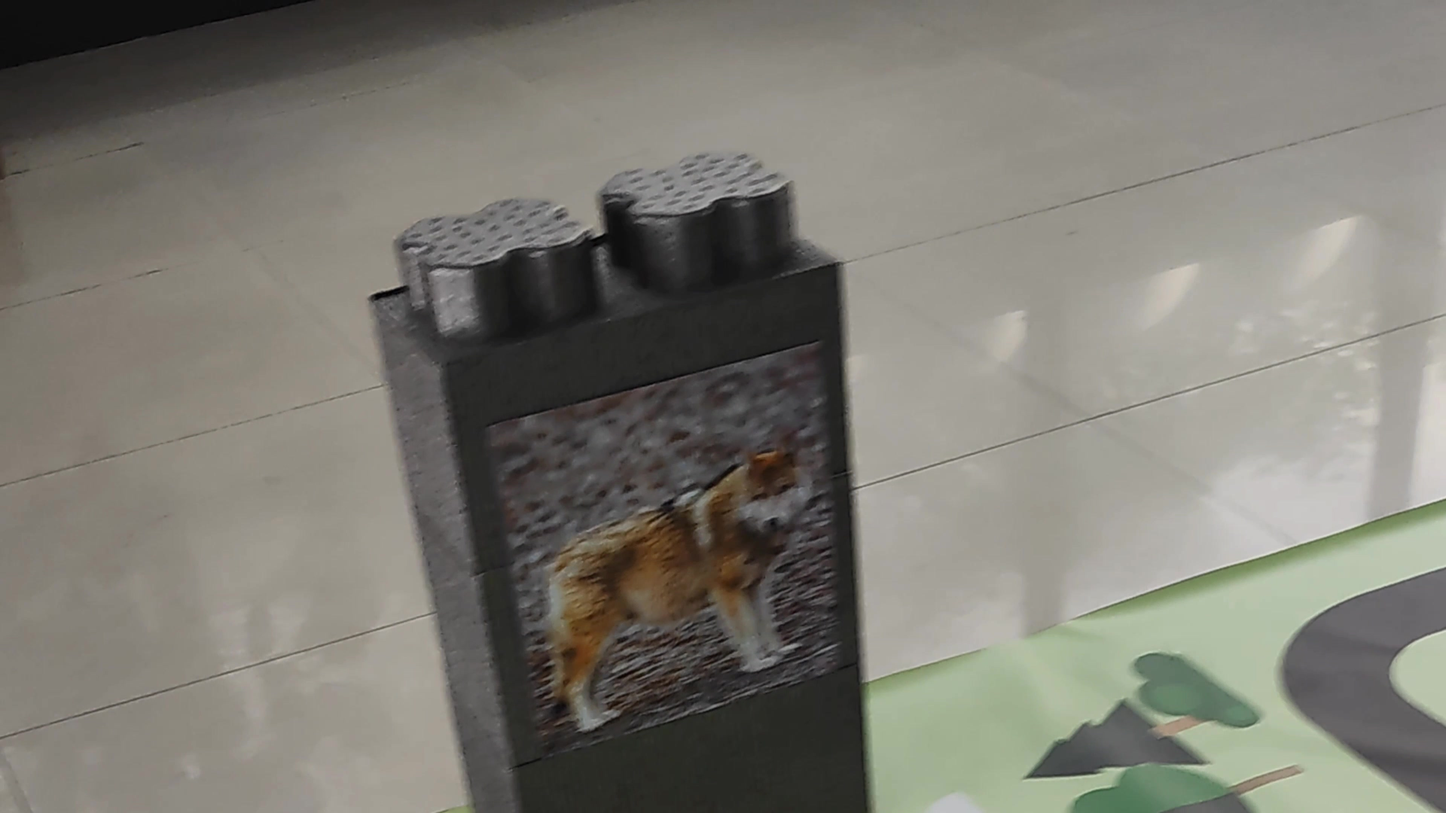wolf: (507, 423, 831, 728)
